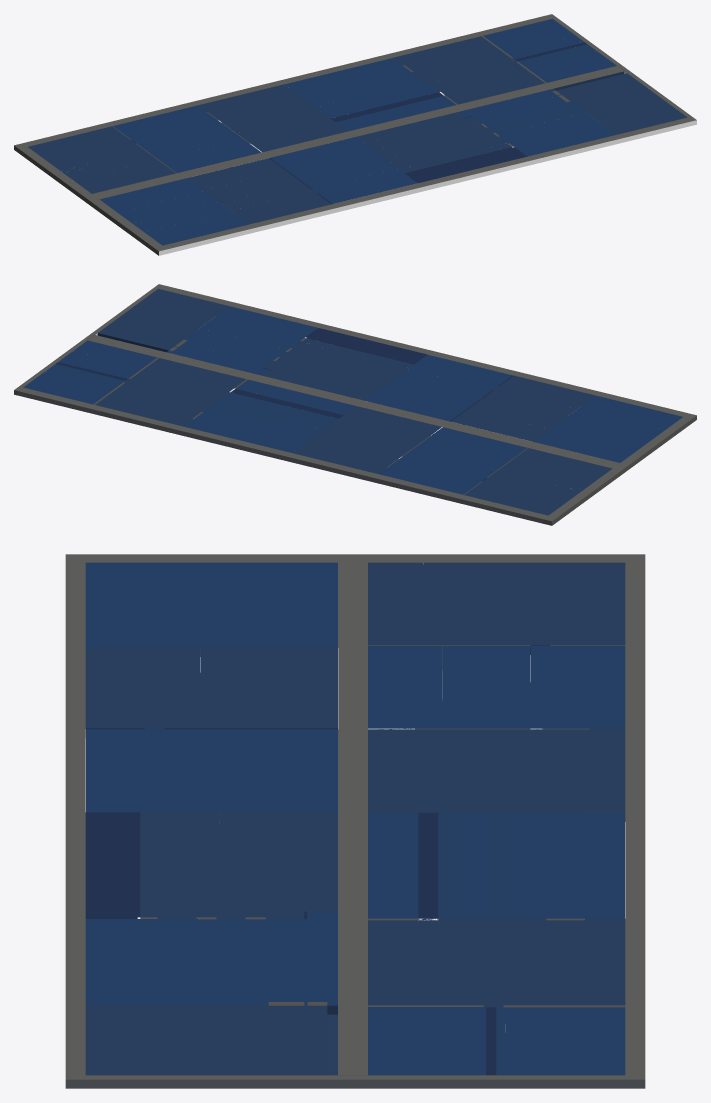
Rendered from GanzePlatte.dae.
3 renders of one model, top to bottom at view 1: azimuth 30°, elevation 25°; view 2: azimuth 150°, elevation 25°; view 3: azimuth 270°, elevation 25°, orthographic. The views are drawn at different scales.
Visible parts, largest first — view 1: SketchUp (×18); view 2: SketchUp (×18); view 3: SketchUp (×18).
Part boxes in pixels (bbox=[...]): SketchUp (×18): bbox=[14, 14, 696, 255]; SketchUp (×18): bbox=[14, 284, 696, 525]; SketchUp (×18): bbox=[65, 554, 645, 1088].
Bounding box in the file's own units: 49.09 × 22.9 × 0.3954.
